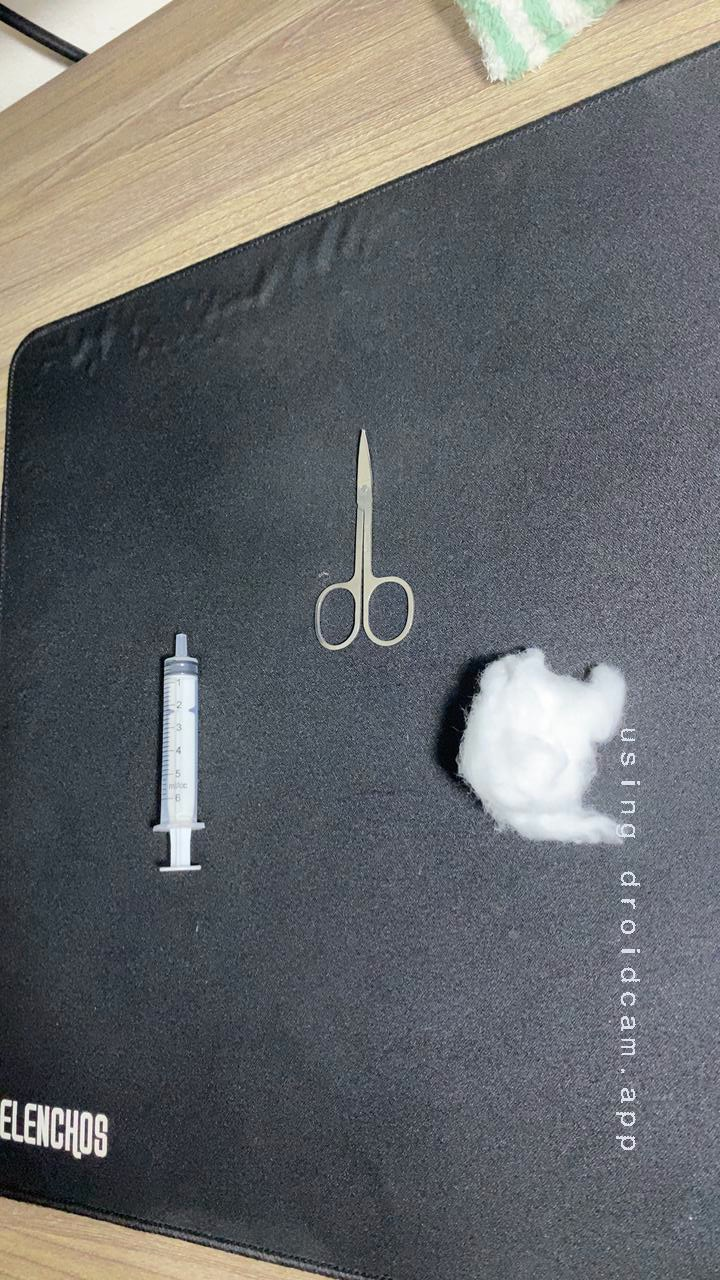cotton: (422, 637, 660, 853)
scissor: (302, 424, 432, 657)
syringe: (120, 622, 237, 884)
